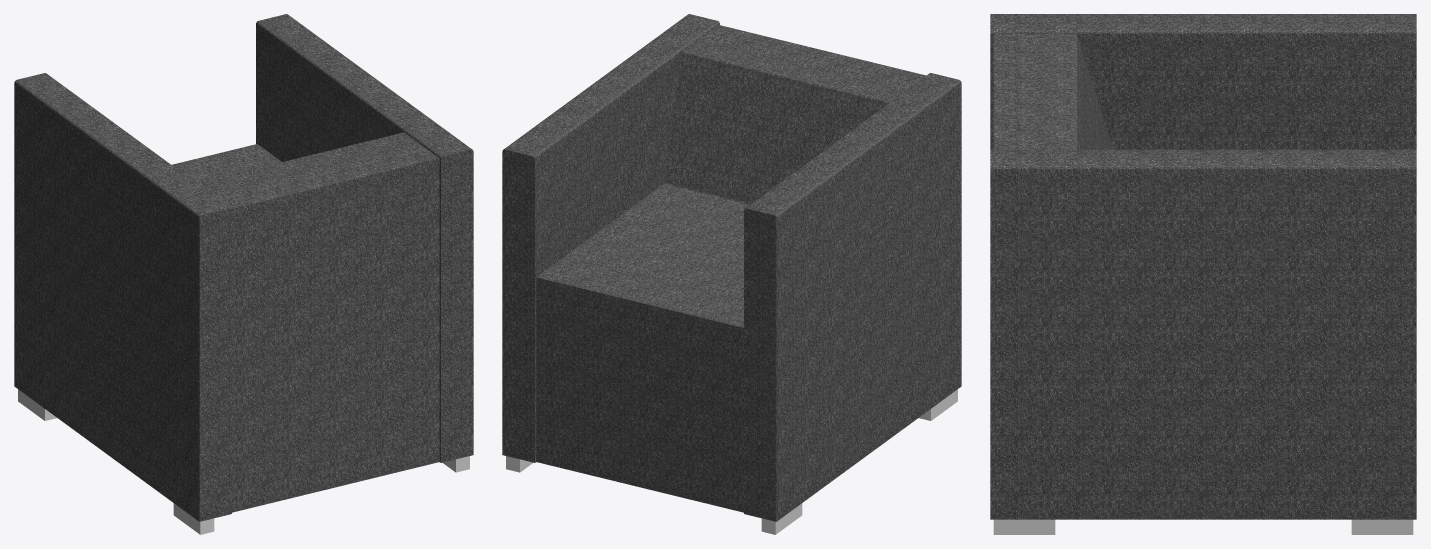
3 views of the same model, side by side, from view 1: azimuth 30°, elevation 25°; view 2: azimuth 150°, elevation 25°; view 3: azimuth 270°, elevation 25° (orthographic). The views are drawn at different scales.
Parts seen in each view (by area): view 1: mesh3_mesh3-geometry, mesh9_mesh9-geometry; view 2: mesh3_mesh3-geometry, mesh5_mesh5-geometry; view 3: mesh3_mesh3-geometry, mesh1_mesh1-geometry, mesh7_mesh7-geometry.
Boxes of the visible parts, x1,y1,x2,y2 form: mesh3_mesh3-geometry: (14,14,473,521); mesh9_mesh9-geometry: (173,503,214,534); mesh3_mesh3-geometry: (502,14,961,521); mesh5_mesh5-geometry: (761,503,802,534); mesh3_mesh3-geometry: (990,14,1416,519); mesh1_mesh1-geometry: (1351,519,1413,534); mesh7_mesh7-geometry: (993,519,1055,534).
Size of the model in its own units: 0.5257 by 0.588 by 0.6147.
2 materials, 1 textured.
